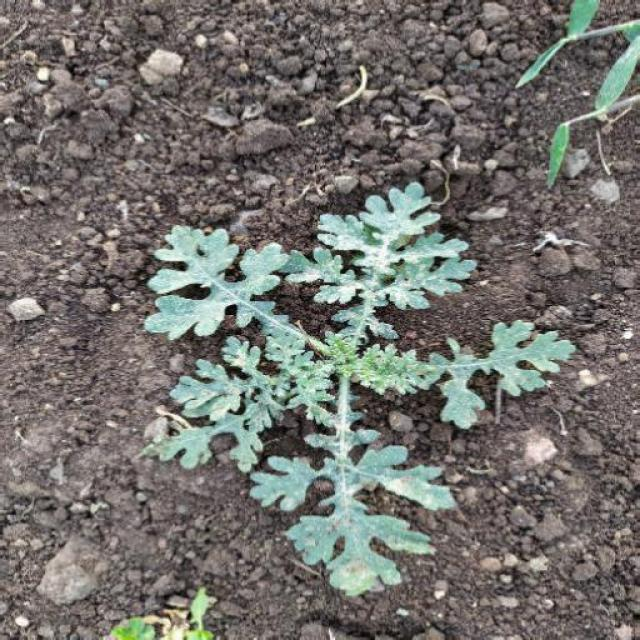weed: (143, 173, 575, 582)
